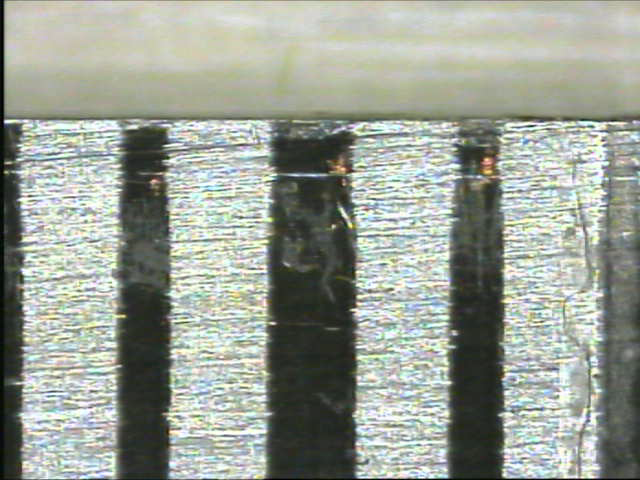line: (263, 117, 361, 479), (446, 118, 508, 479), (114, 123, 175, 477)
